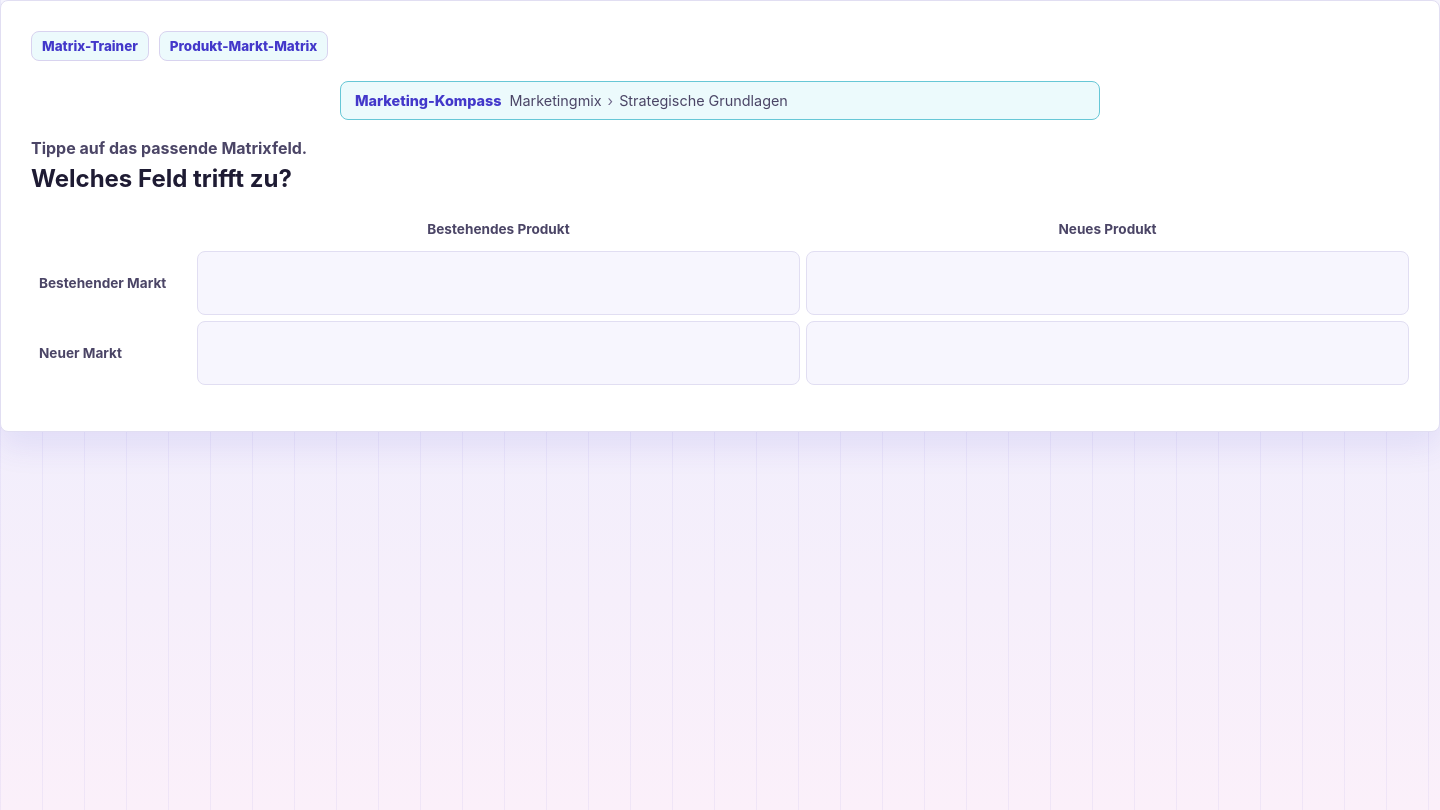
Scenario: MatrixTrainer (Test 11, 12, 15) › markiert eine falsche Zelle als falsch, zeigt die richtige Zelle und die Herleitung (Test 12)
Click the 1st button at (498, 283), box [197,251,800,315]
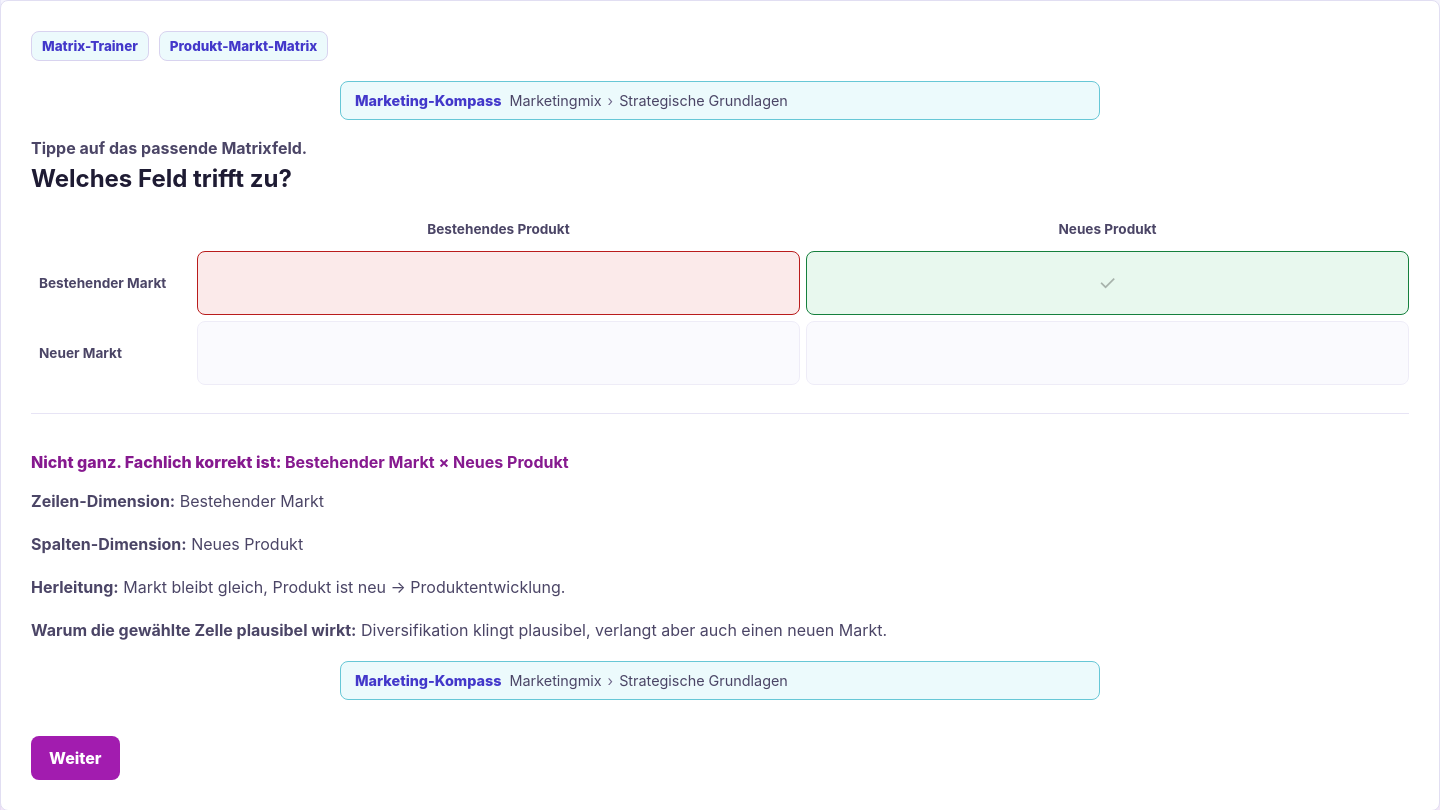
Check: the element with class "feedback-wrong" is shown, box [31,452,569,472]
Check: the text "Markt bleibt gleich, Produkt ist neu -> Produktentwicklung." is shown, box [119,577,565,597]
Check: the text "Diversifikation klingt plausibel, verlangt aber auch einen neuen Markt." is shown, box [356,620,887,640]
